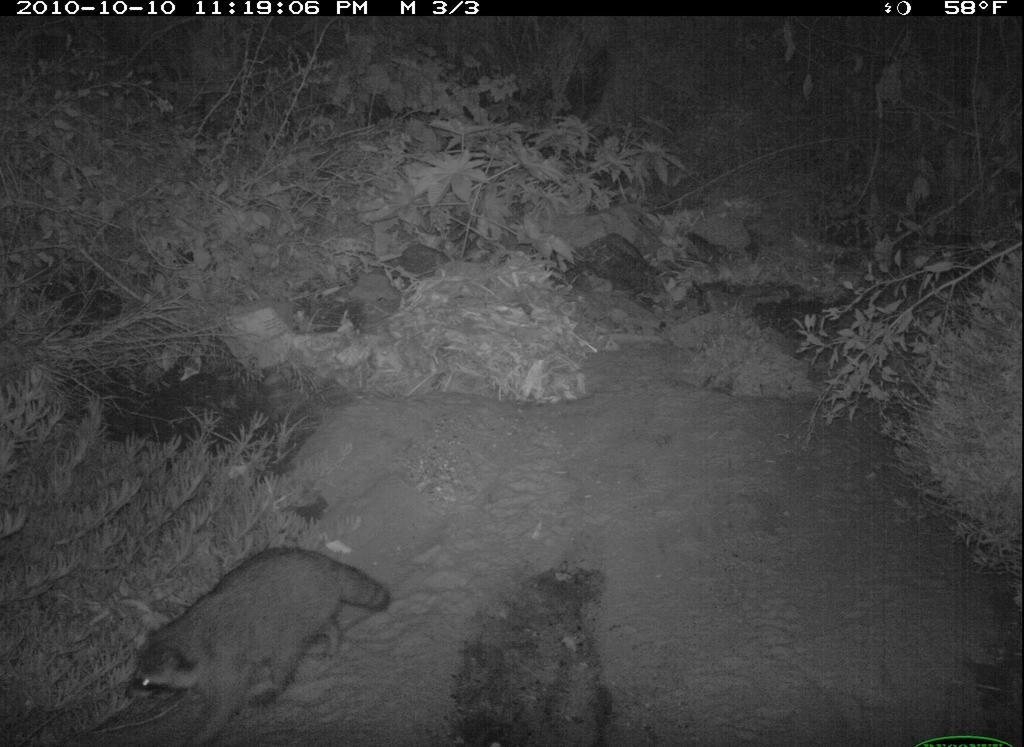raccoon: (121, 530, 383, 747)
